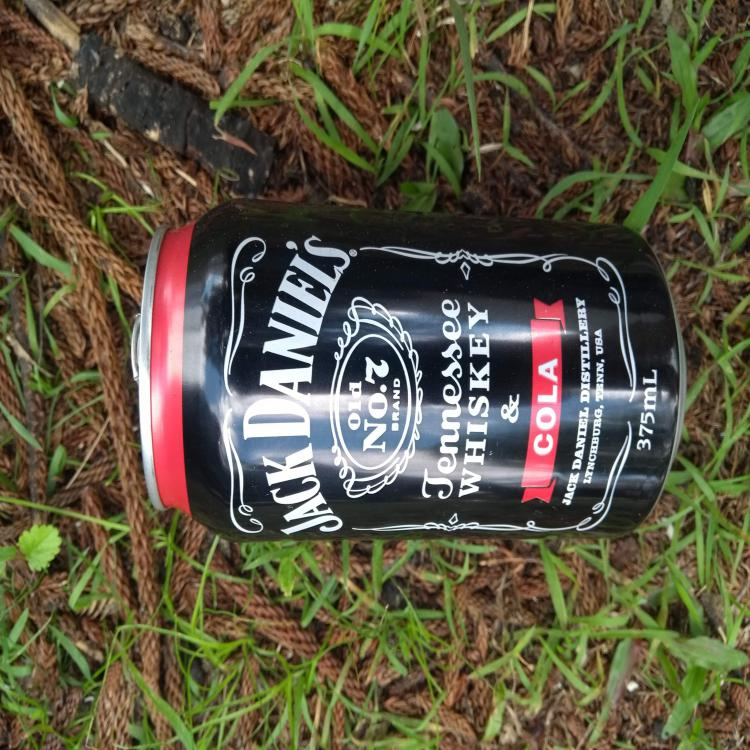Drink can: (131, 197, 687, 543)
Pop tab: (131, 313, 141, 387)
